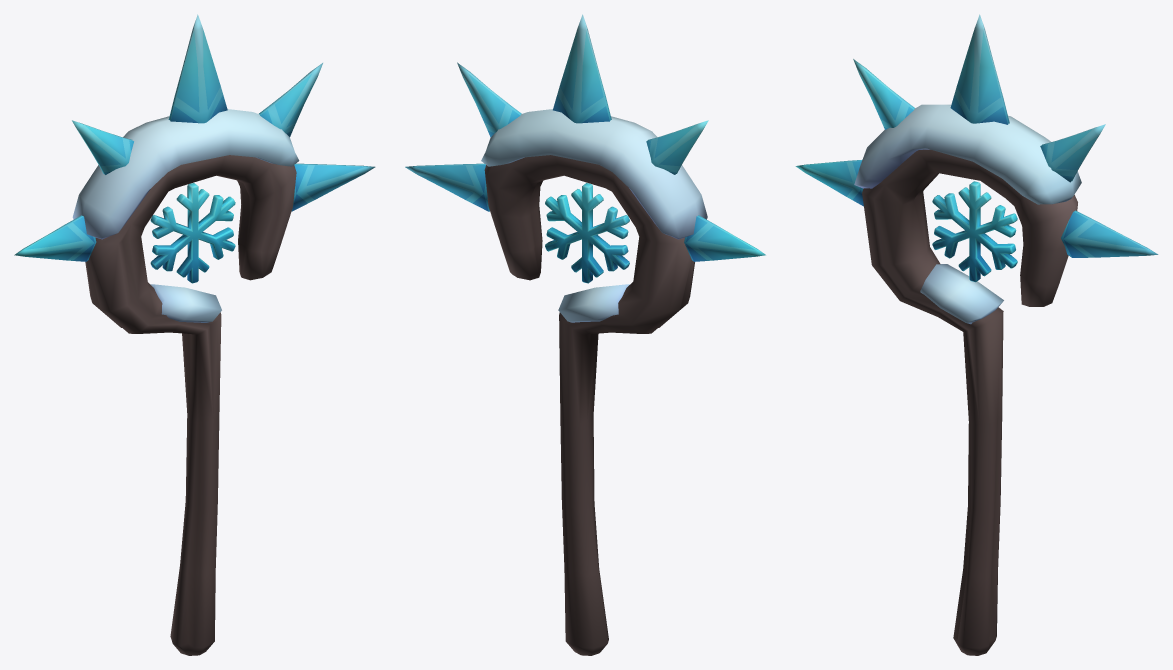
The model's file is SM_IceMage_lv2_Weapon.fbx.
The picture shows the model from 3 angles, left to right: view 1: azimuth 30°, elevation 25°; view 2: azimuth 150°, elevation 25°; view 3: azimuth 330°, elevation 25°; orthographic projection.
Parts seen in each view (by area): view 1: SM_IceMage_lv2_Weapon; view 2: SM_IceMage_lv2_Weapon; view 3: SM_IceMage_lv2_Weapon.
Part boxes in pixels (x1,y1,x2,y2): SM_IceMage_lv2_Weapon: (14,14,375,655); SM_IceMage_lv2_Weapon: (405,14,765,655); SM_IceMage_lv2_Weapon: (795,14,1158,655).
Bounding box in the file's own units: 0.8613 × 1.46 × 0.1594.
